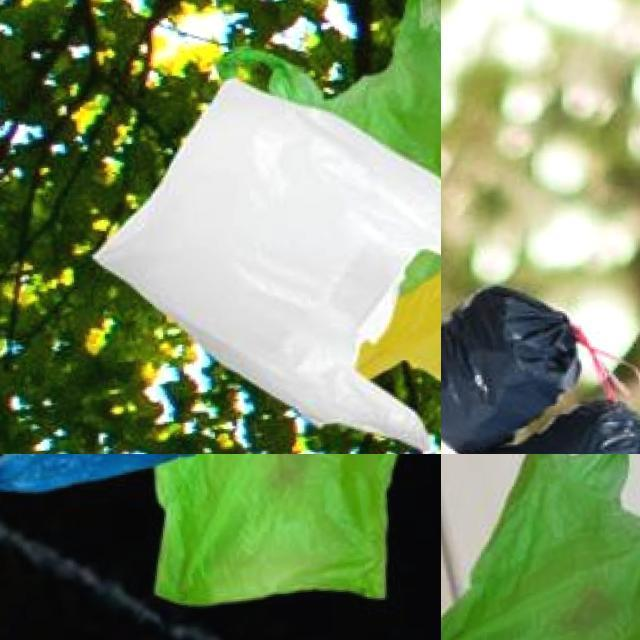waste: (85, 66, 441, 454), (195, 0, 441, 288), (124, 454, 441, 620), (441, 454, 640, 640), (441, 272, 592, 443), (365, 167, 441, 454), (490, 508, 640, 640)
